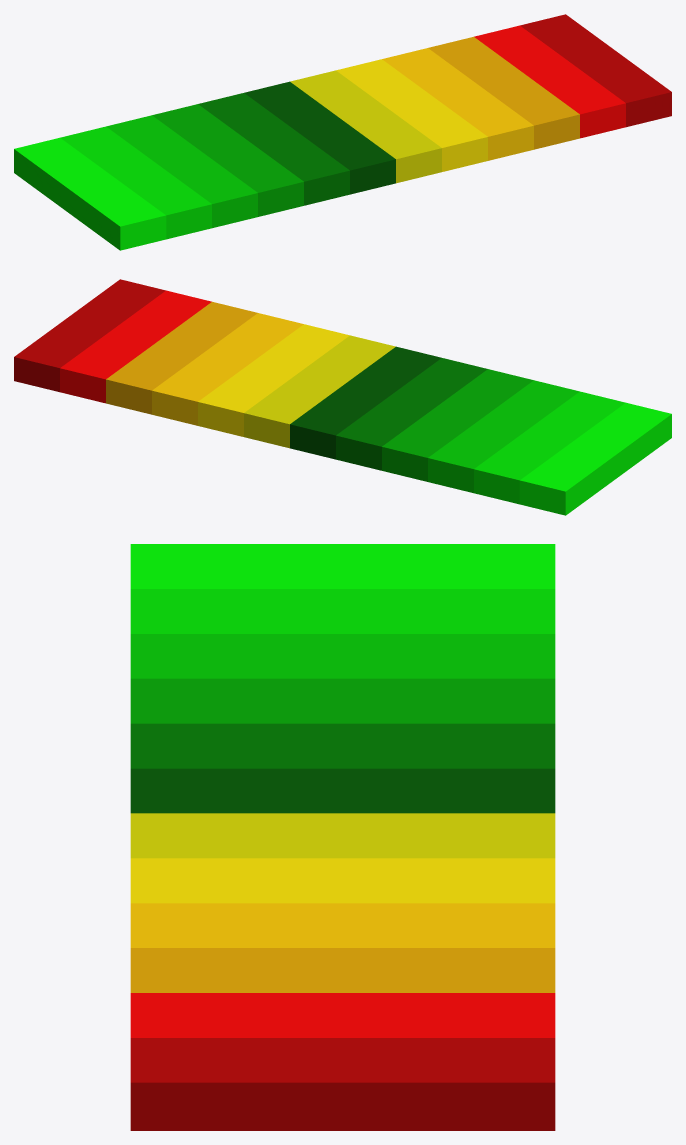
File: final_platform.fbx
3 renders of one model, top to bottom at view 1: azimuth 30°, elevation 25°; view 2: azimuth 150°, elevation 25°; view 3: azimuth 270°, elevation 25°, orthographic. The views are drawn at different scales.
Parts seen in each view (by area): view 1: Cube; view 2: Cube; view 3: Cube.
Boxes of the visible parts, <box> form: Cube: <box>14,14,671,250</box>; Cube: <box>14,279,671,515</box>; Cube: <box>130,544,555,1130</box>.
Bounding box in the file's own units: 1200 × 50 × 400.
